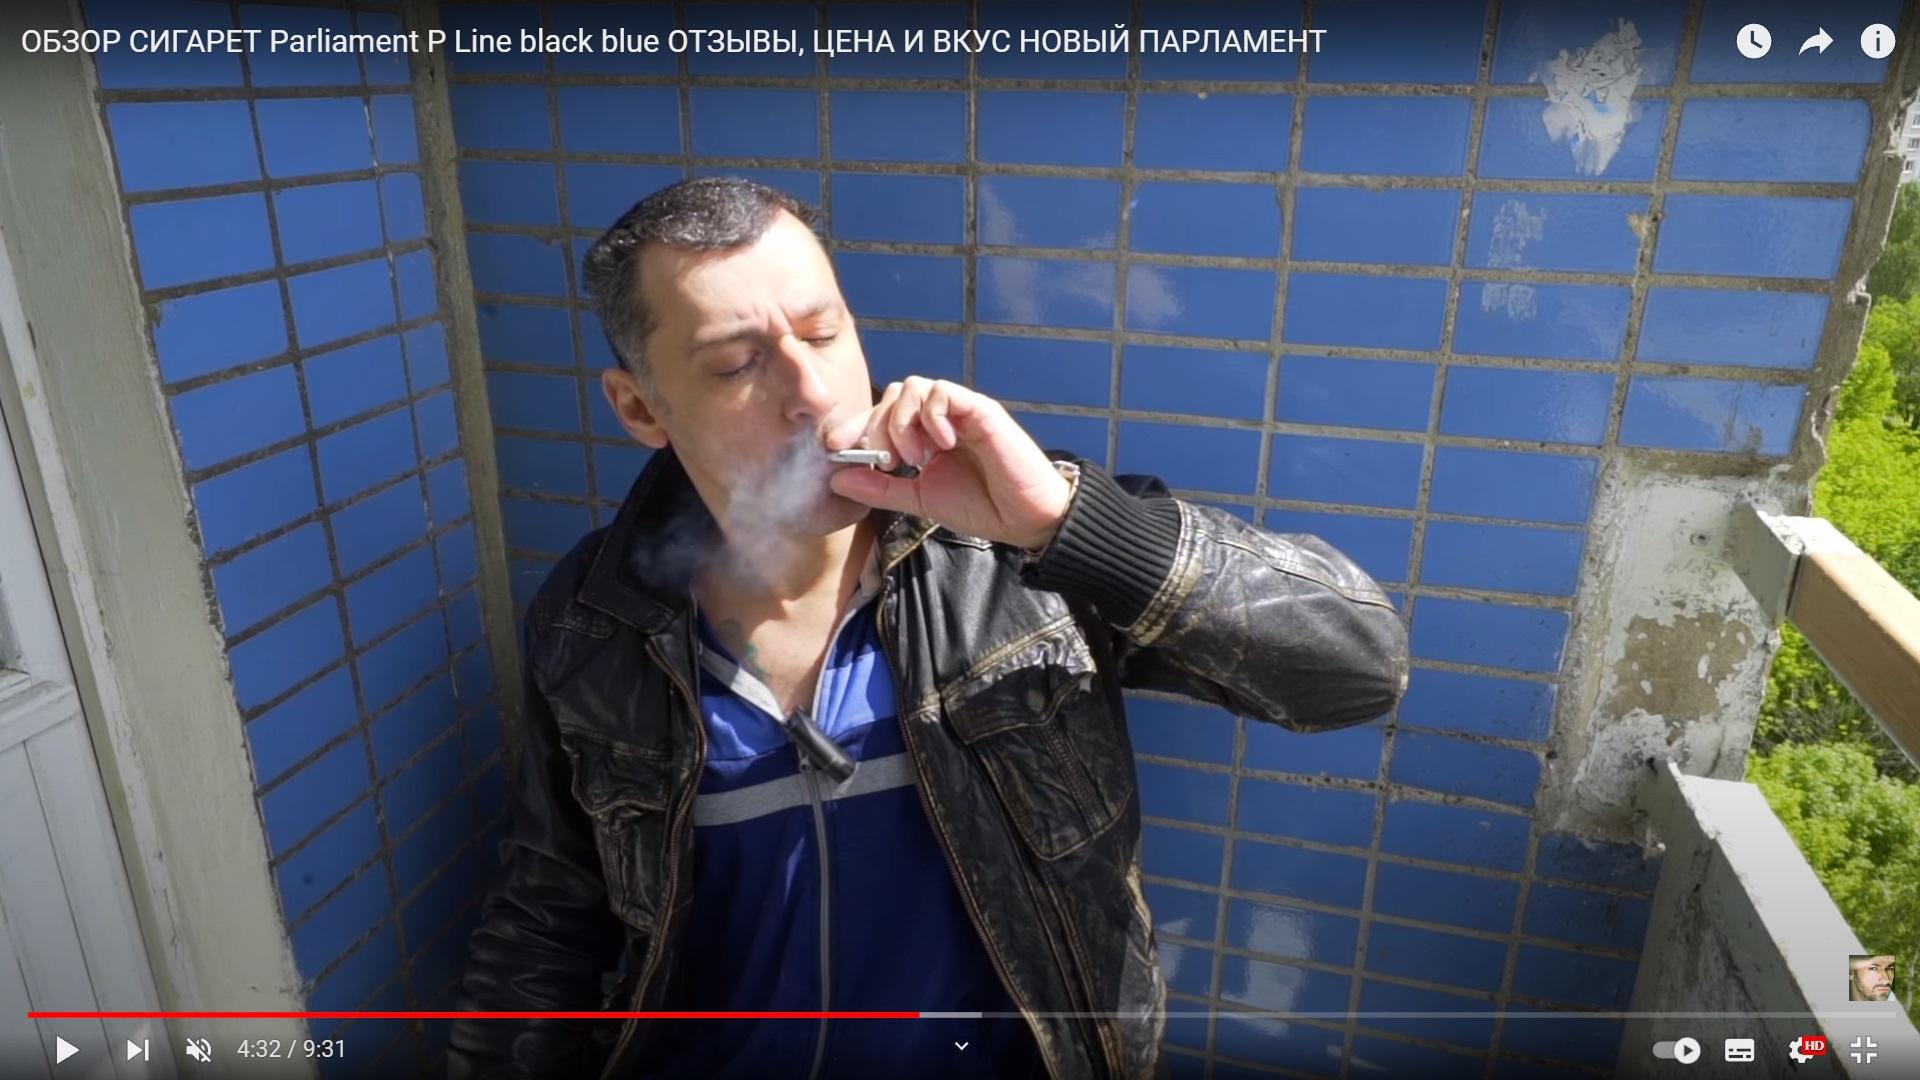cigarette: (818, 450, 891, 464)
